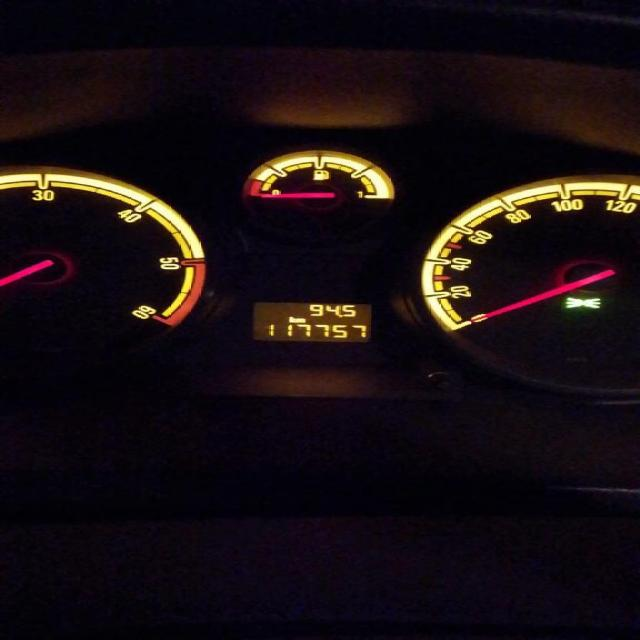odometer: (248, 301, 372, 344)
